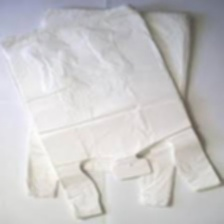plastic_bag: (0, 3, 224, 222), (20, 7, 197, 213)
